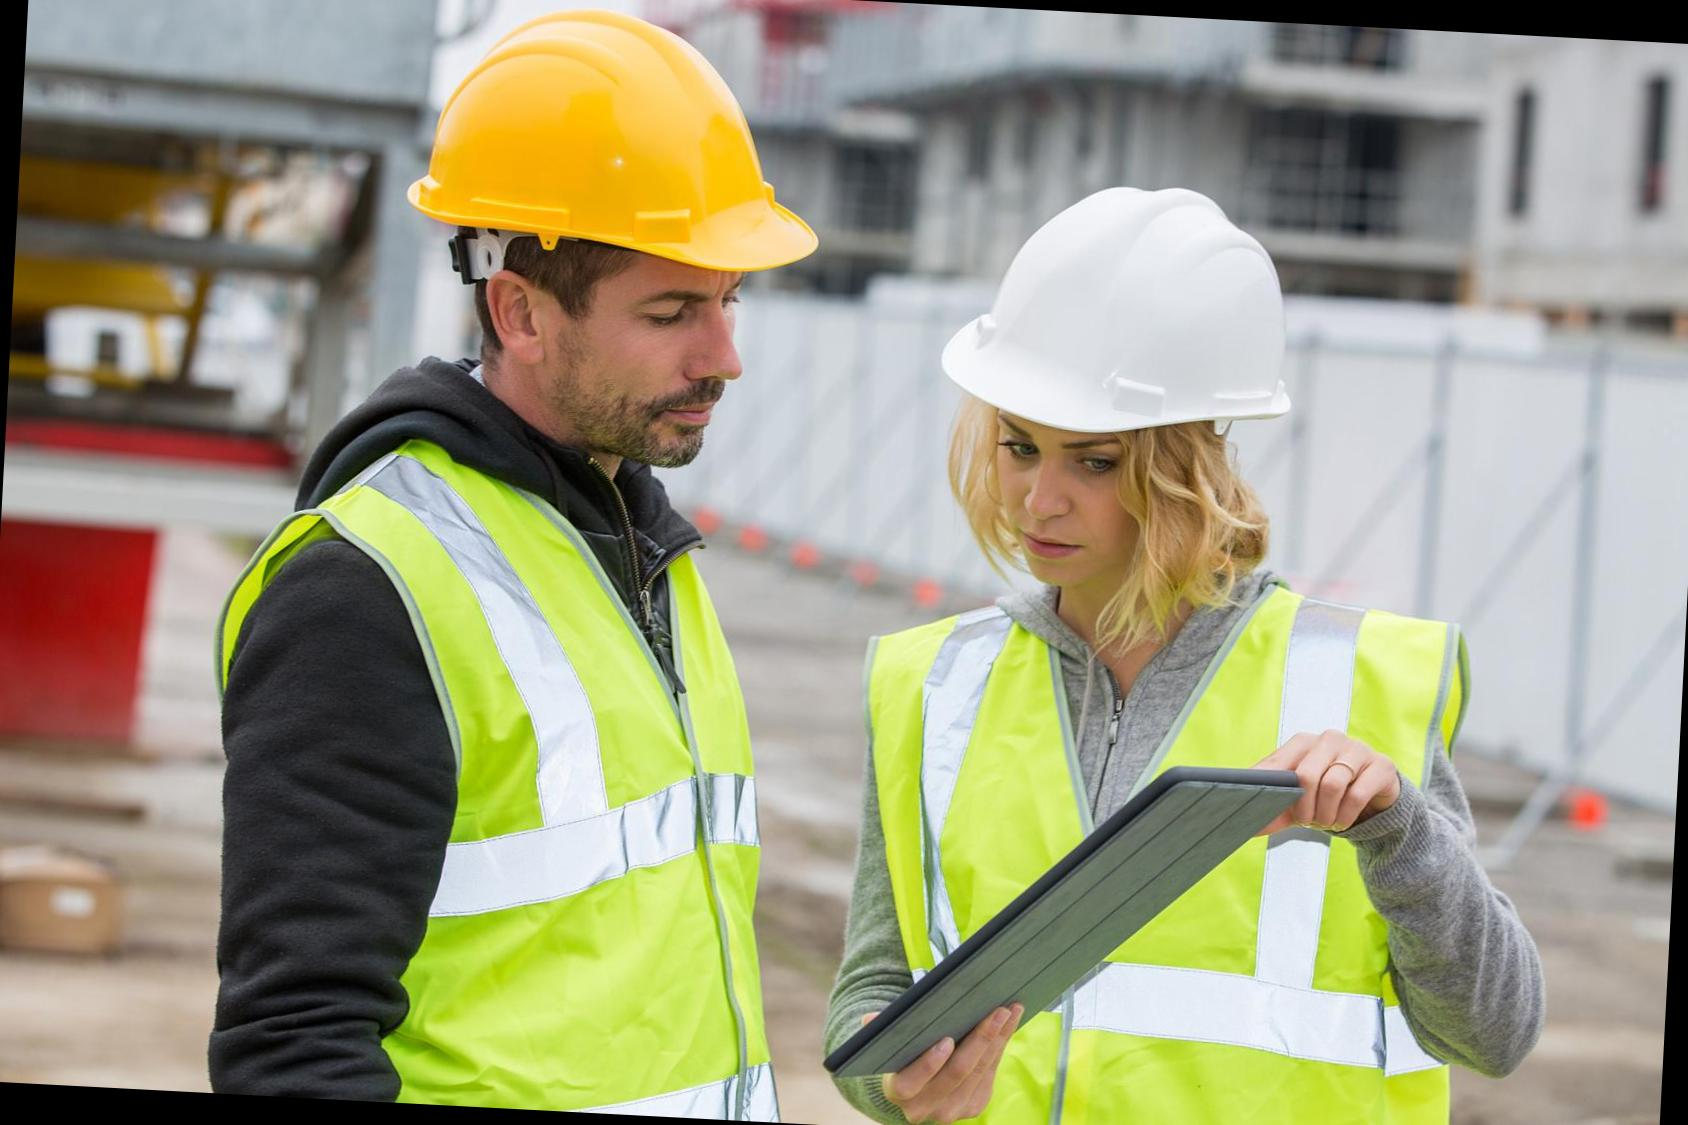Vest: (242, 408, 778, 1120), (850, 529, 1447, 1125)
